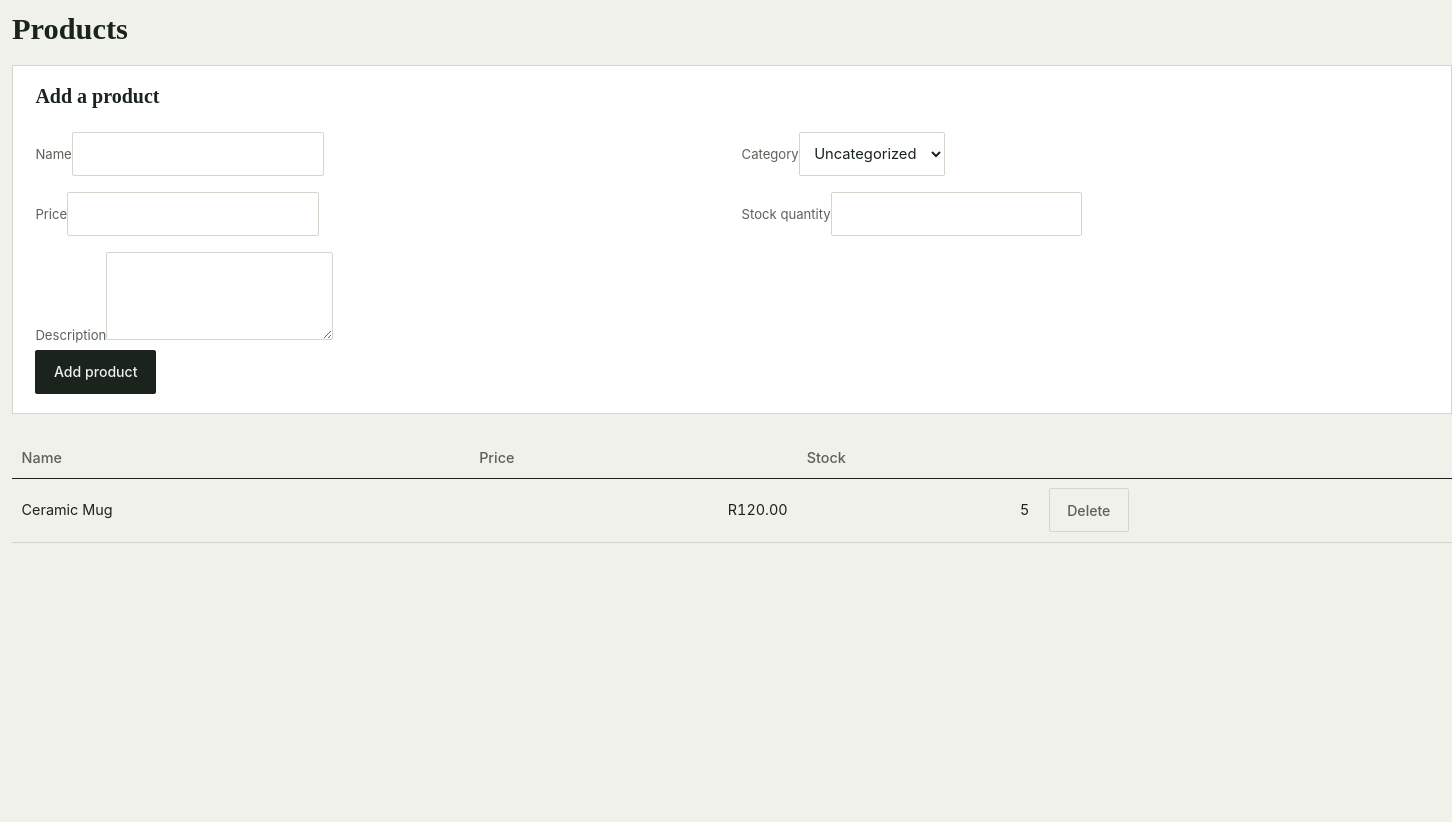
Test: AdminProductsPage deleting a product › deactivates the chosen product and refreshes the list
Expected: the text "Ceramic Mug" is shown, [12,478,470,542]
Click the button "Delete": (1089, 510) [1049,488,1129,532]
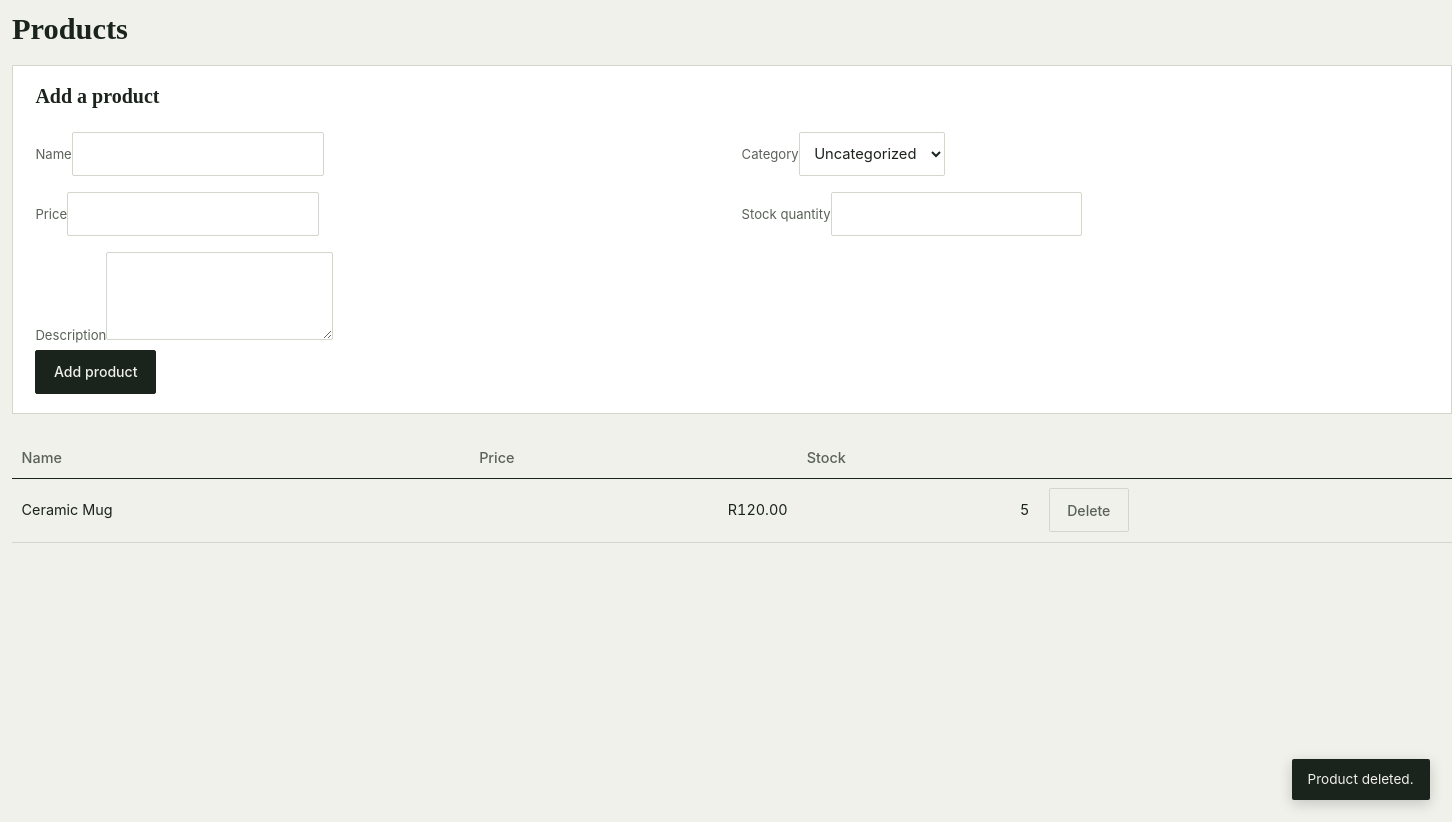
Result: the text "Product deleted." is shown at [1292,759,1430,800]
